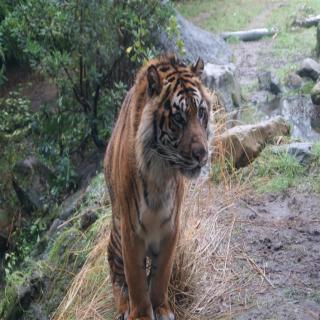Tiger: (102, 53, 210, 320)
